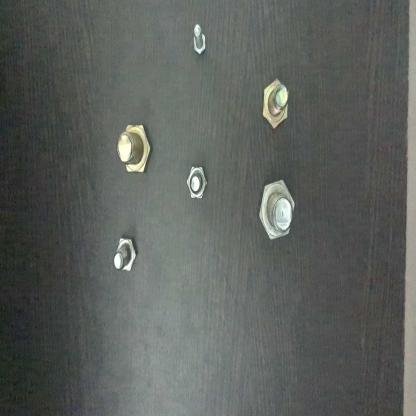Bolts: (115, 110, 154, 190), (255, 172, 294, 241), (258, 73, 294, 134), (111, 232, 143, 287), (186, 23, 212, 71), (184, 156, 209, 204)
